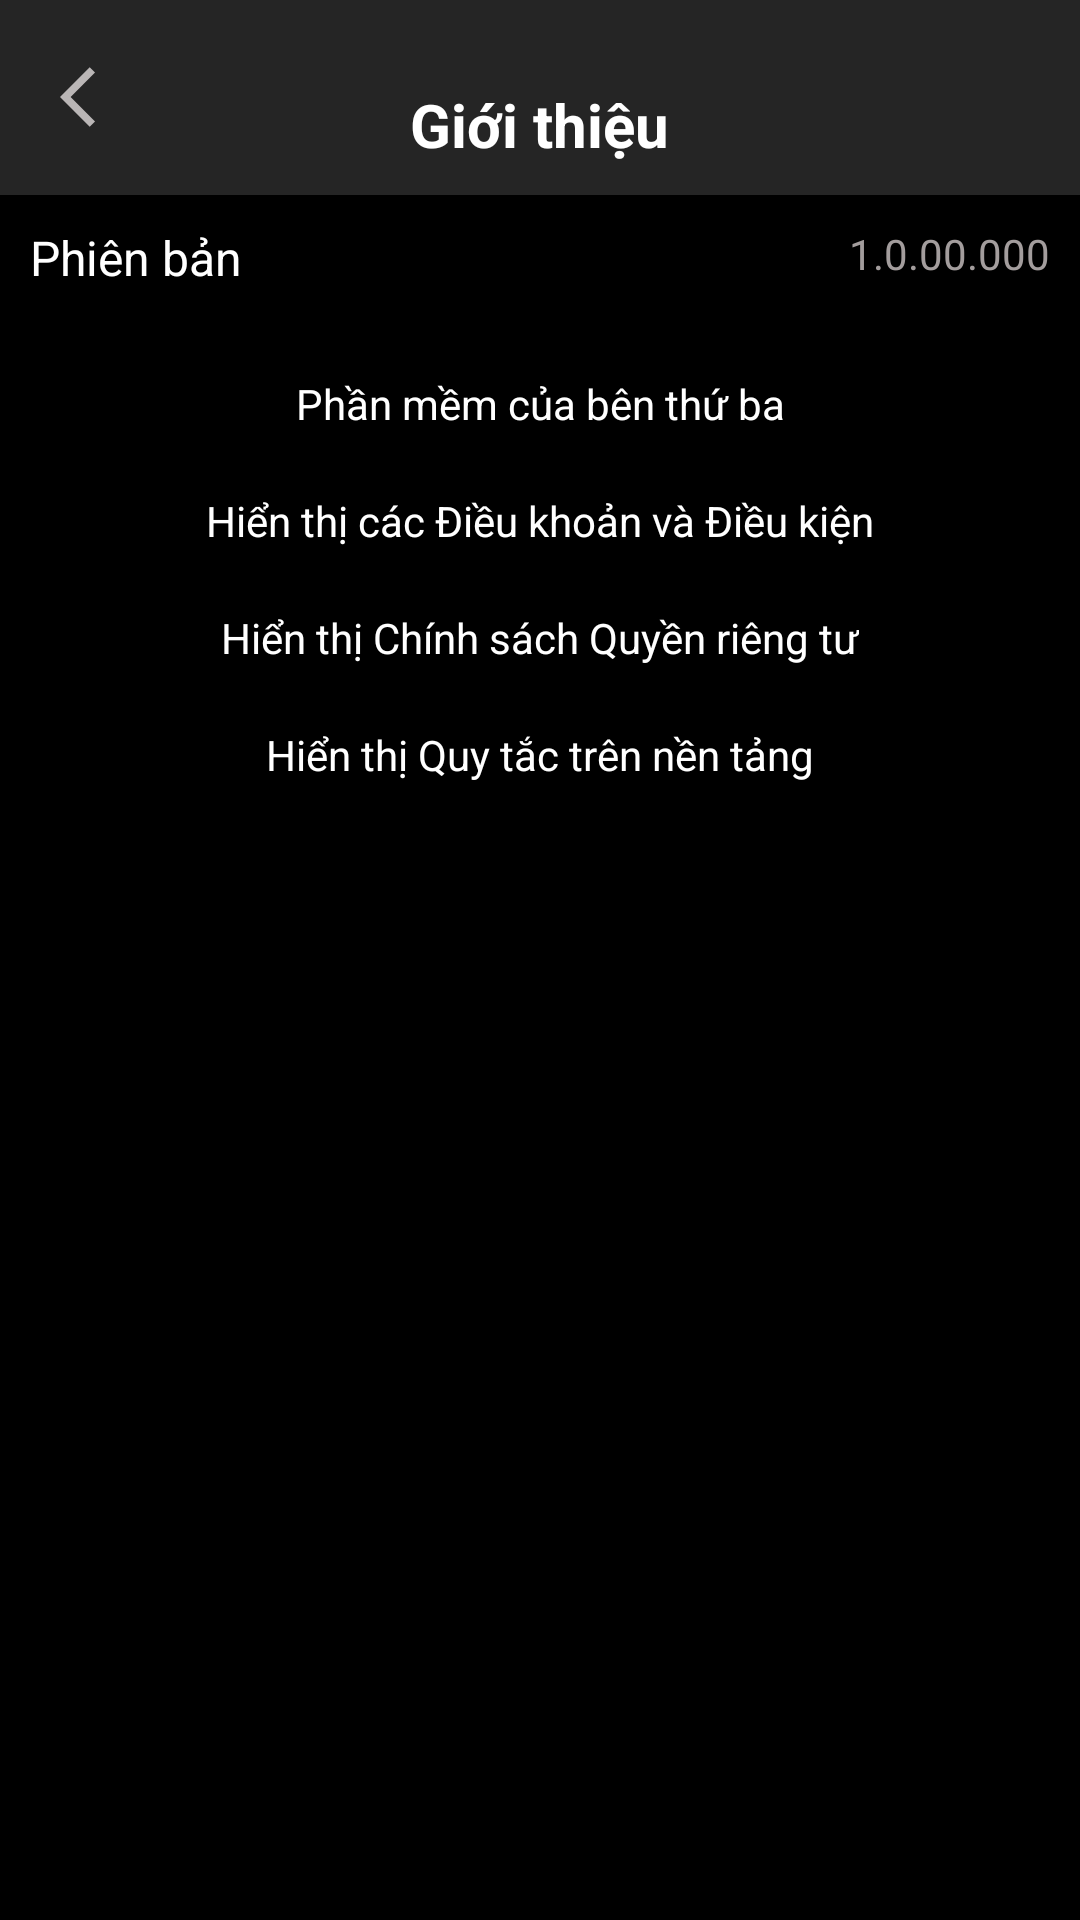

Icons on this 1080 × 1920 Android screen, each with the point to tap as [x,y]:
back: [77,97]
